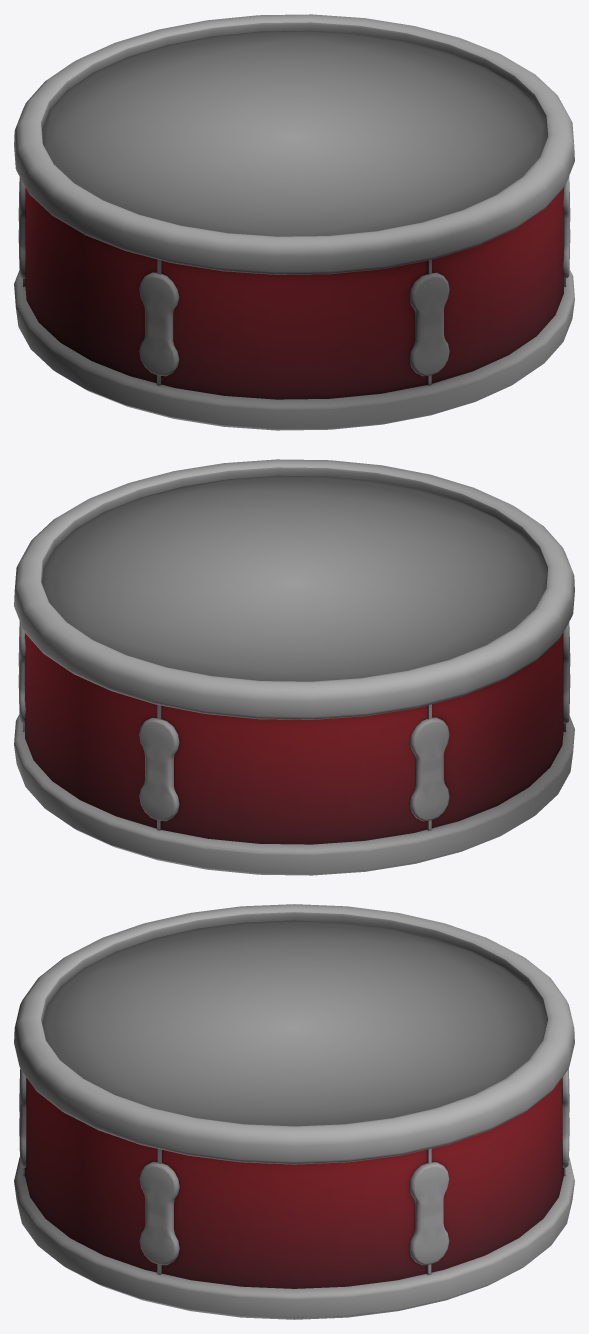
The model's file is beben_nisk_B.fbx.
3 renders of one model, top to bottom at view 1: azimuth 30°, elevation 25°; view 2: azimuth 150°, elevation 25°; view 3: azimuth 270°, elevation 25°, orthographic.
Visible parts, largest first — view 1: beben_nisk_B; view 2: beben_nisk_B; view 3: beben_nisk_B.
Part boxes in pixels (x1,y1,x2,y2): beben_nisk_B: (14, 14, 574, 430); beben_nisk_B: (14, 459, 574, 875); beben_nisk_B: (14, 904, 574, 1319).
Bounding box in the file's own units: 809 × 300 × 809.
1 material, 1 textured.
